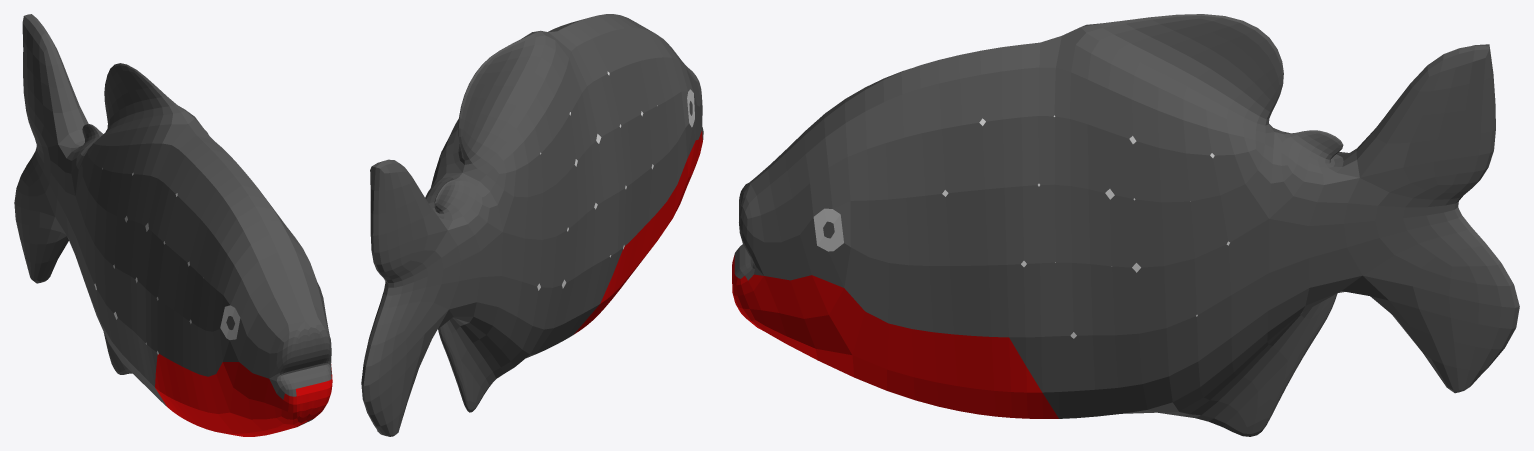
The model's file is PIRANHA.fbx.
3 renders of one model, left to right at view 1: azimuth 30°, elevation 25°; view 2: azimuth 150°, elevation 25°; view 3: azimuth 270°, elevation 25°, orthographic. The views are drawn at different scales.
Visible parts, largest first — view 1: pranha f; view 2: pranha f; view 3: pranha f.
Boxes of the visible parts, x1,y1,x2,y2 form: pranha f: (14, 14, 332, 436); pranha f: (361, 14, 703, 436); pranha f: (732, 14, 1519, 436).
Size of the model in its own units: 0.2794 by 0.8209 by 1.39.
